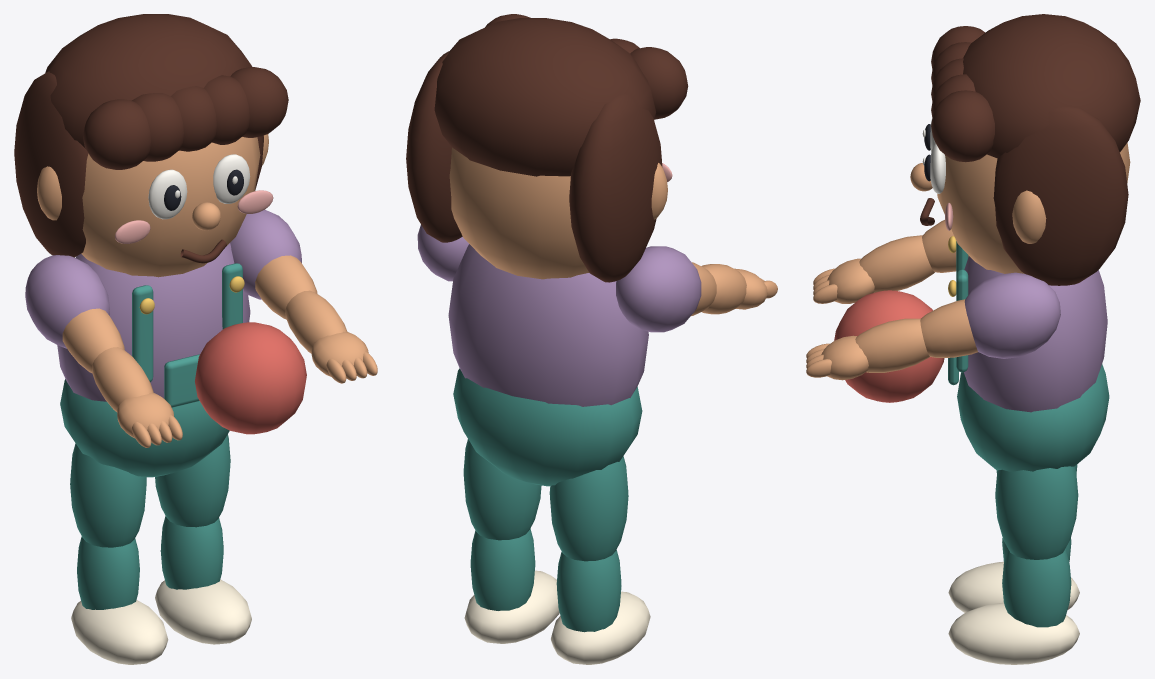
File: mommy-throw.glb
3 views of the same model, side by side, from view 1: azimuth 30°, elevation 25°; view 2: azimuth 150°, elevation 25°; view 3: azimuth 270°, elevation 25° (orthographic). The views are drawn at different scales.
Parts seen in each view (by area): view 1: hair cap, clay head, soft shirt, soft ball, bob hair, overalls, trouser leg, shirt sleeve, little shoe.001, little shoe, trouser leg.001, fringe (+22 smaller); view 2: hair cap, soft shirt, overalls, bob hair, clay head, trouser leg, bob hair.001, shirt sleeve, trouser leg.001, lower leg.001, lower leg, little shoe (+7 smaller); view 3: bob hair.001, hair cap, soft shirt, overalls, trouser leg.001, shirt sleeve.001, clay head, little shoe.001, soft ball, lower leg.001, fringe.004, forearm.001 (+13 smaller).
Part boxes in pixels (x1,y1,x2,y2): hair cap: (45, 14, 252, 148); clay head: (81, 137, 260, 277); soft shirt: (57, 243, 250, 401); soft ball: (195, 322, 306, 434); bob hair: (14, 71, 88, 257); overalls: (60, 379, 229, 477); trouser leg: (70, 443, 146, 547); shirt sleeve: (25, 255, 109, 348); little shoe.001: (155, 579, 251, 644); little shoe: (71, 600, 168, 664); trouser leg.001: (155, 434, 230, 527); fringe: (83, 99, 150, 169); hair cap: (434, 18, 655, 176); soft shirt: (448, 244, 648, 406); overalls: (453, 368, 642, 486); bob hair: (569, 94, 662, 282); clay head: (449, 147, 588, 279); trouser leg: (549, 456, 628, 561); bob hair.001: (406, 51, 462, 242); shirt sleeve: (616, 246, 701, 332); trouser leg.001: (463, 439, 541, 540); lower leg.001: (470, 528, 535, 610); lower leg: (556, 550, 621, 632); little shoe: (551, 591, 650, 664); bob hair.001: (993, 106, 1128, 285); hair cap: (963, 14, 1140, 158); soft shirt: (964, 256, 1107, 412); overalls: (957, 364, 1109, 471); trouser leg.001: (995, 466, 1078, 559); shirt sleeve.001: (964, 272, 1060, 358); clay head: (935, 142, 1130, 273); little shoe.001: (948, 602, 1079, 664); soft ball: (834, 290, 944, 402); lower leg.001: (1002, 549, 1071, 627); fringe.004: (931, 90, 994, 162); forearm.001: (855, 318, 929, 372).
Bounding box in the file's own units: 0.957 × 2.14 × 1.06.
